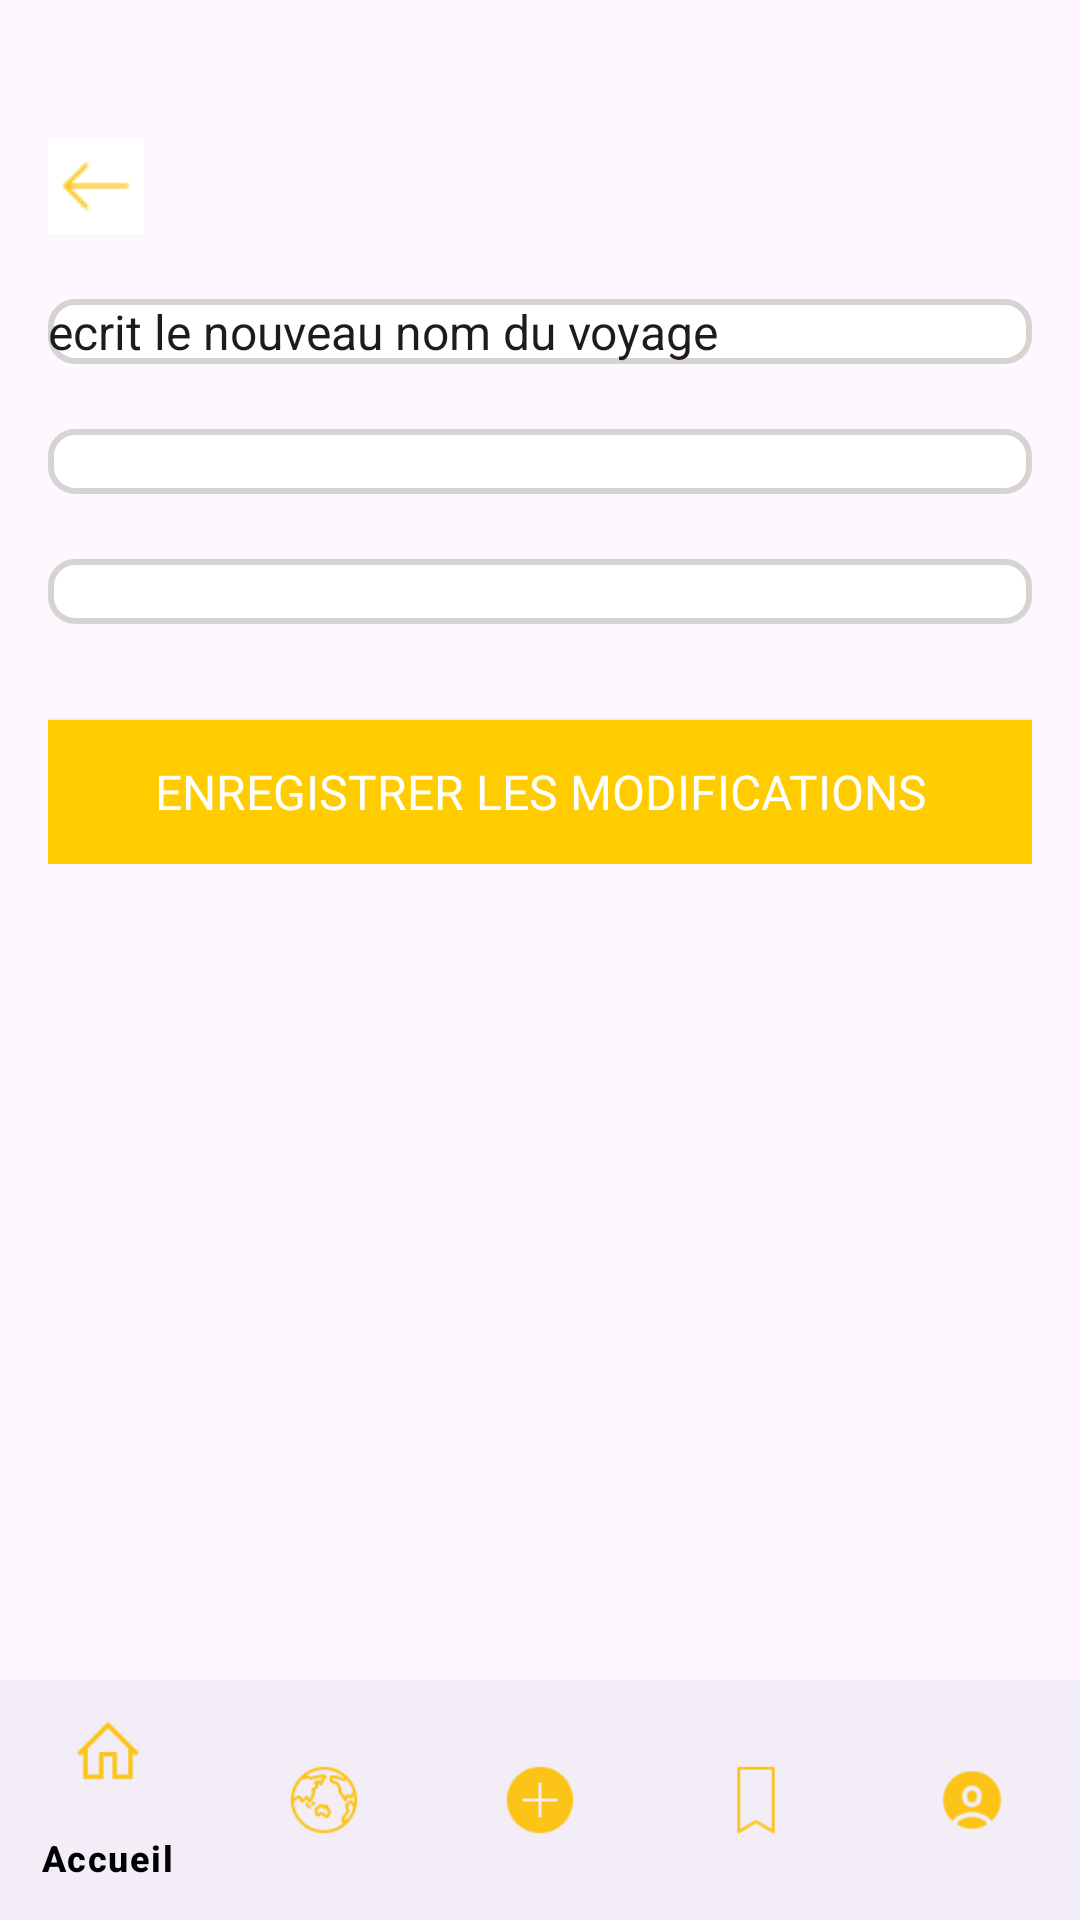

Screen size 1080*1920. Icon name, then its box in pixels as (x1, y1, x2, y2):
left: (62, 161, 130, 211)
